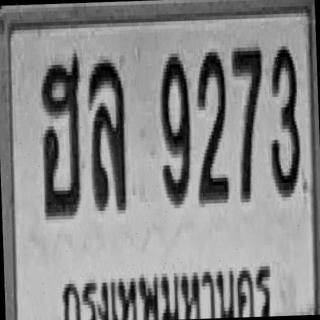A36: (87, 55, 128, 211)
A44: (38, 51, 85, 218)
N02: (192, 48, 229, 204)
N03: (266, 42, 302, 198)
N07: (230, 43, 266, 202)
N09: (157, 49, 192, 205)
